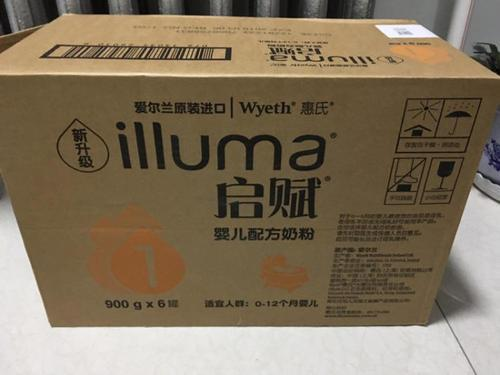cardboard: (0, 16, 481, 325)
